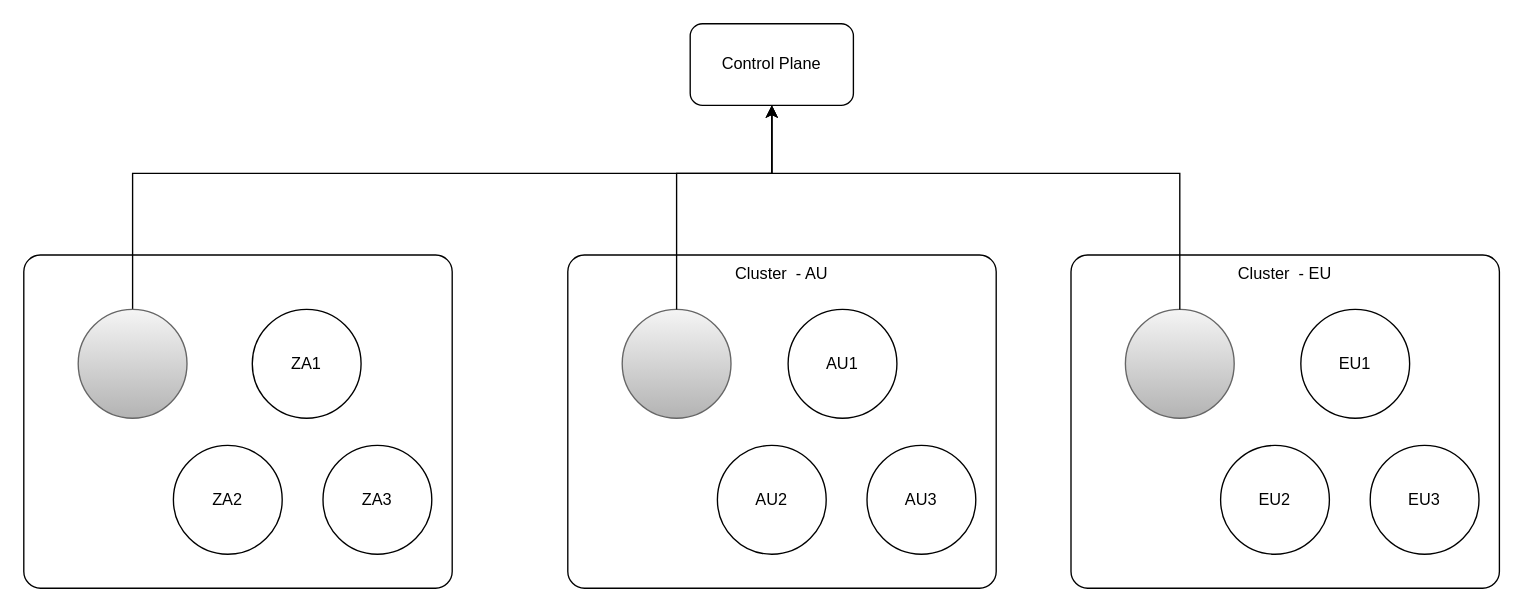
Image size: 1523x612. Some labels were removed from this diagram. Here are the shapes that lost their labels. From the top down, the box of each, then its label:
(77, 308, 187, 418): CP1
(621, 308, 731, 418): CP2
(1124, 308, 1234, 418): CP3
(22, 254, 452, 588): Cluster - ZA
